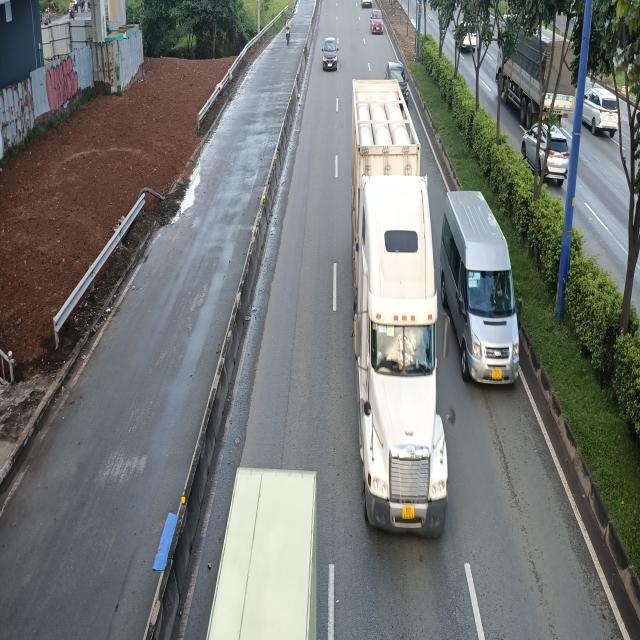car: (321, 38, 338, 72)
container: (352, 74, 449, 540)
van: (442, 192, 522, 388)
